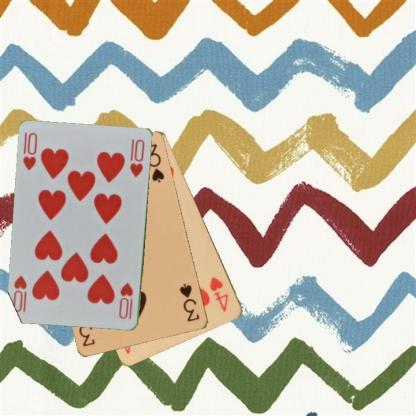10h: (116, 280, 135, 320), (21, 130, 39, 172)
3s: (176, 280, 202, 324)
4h: (207, 274, 230, 314)
